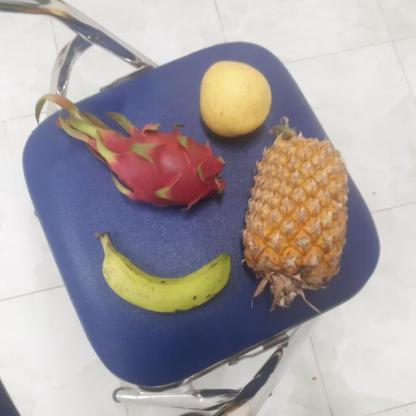banana: (90, 232, 228, 313)
pear: (197, 59, 274, 138)
pineapple: (240, 125, 347, 296)
pitaya: (92, 124, 226, 212)
